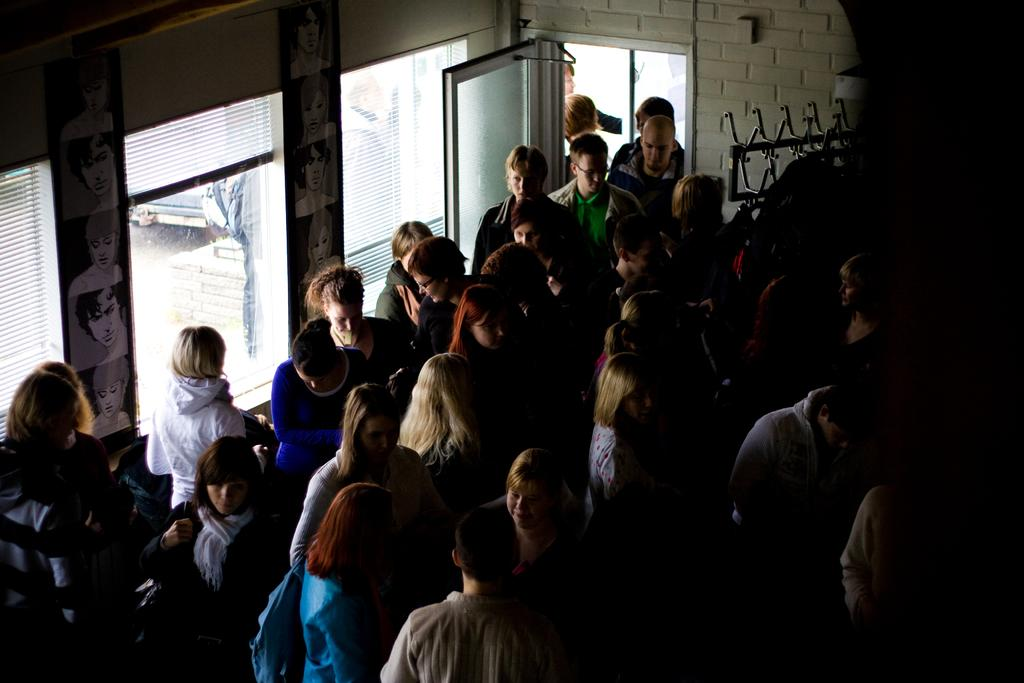Sem Máscara: (209, 472, 253, 515), (504, 478, 538, 528), (362, 414, 399, 454), (330, 297, 358, 336), (508, 163, 535, 200), (578, 151, 600, 193), (641, 131, 667, 166), (635, 240, 661, 274), (412, 273, 439, 301), (512, 222, 542, 242), (837, 271, 852, 310)
